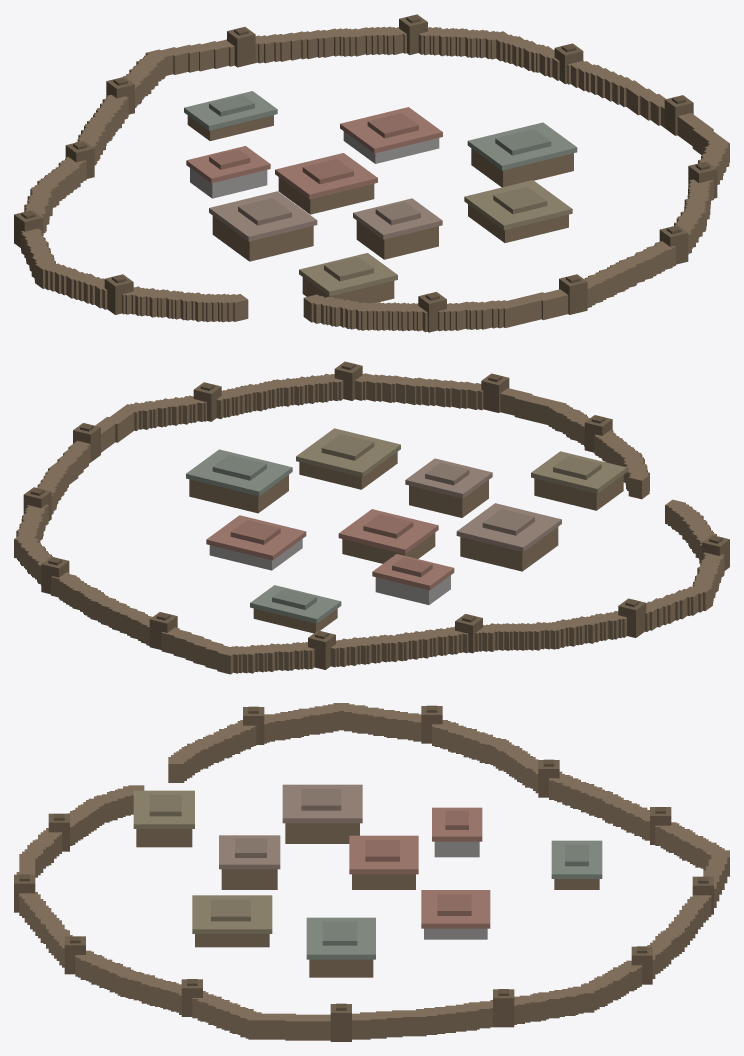
Rendered from ciudad_guarida_bandidos_2419_1929_01.glb.
3 views of the same model, one above another, from view 1: azimuth 30°, elevation 25°; view 2: azimuth 150°, elevation 25°; view 3: azimuth 270°, elevation 25° (orthographic). The views are drawn at different scales.
Visible parts, largest first — view 1: ciudad_guarida_bandidos_2419_1929; view 2: ciudad_guarida_bandidos_2419_1929; view 3: ciudad_guarida_bandidos_2419_1929.
Boxes of the visible parts, x1,y1,x2,y2 form: ciudad_guarida_bandidos_2419_1929: [14, 14, 729, 332]; ciudad_guarida_bandidos_2419_1929: [14, 361, 729, 674]; ciudad_guarida_bandidos_2419_1929: [14, 703, 729, 1041].
Size of the model in its own units: 71 by 3.25 by 67.25.
